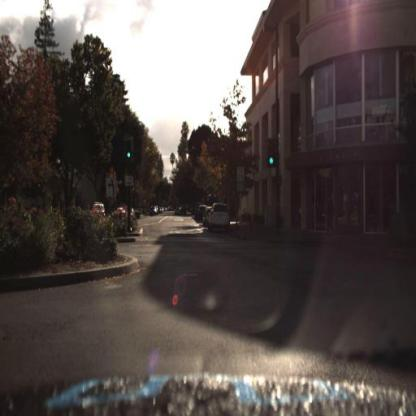car: (83, 195, 111, 222), (209, 202, 230, 232)
pedestrian: (324, 188, 336, 241), (327, 191, 337, 240)
trafficLight: (123, 146, 135, 172), (268, 143, 278, 169)
trafficLight-Green: (126, 140, 133, 165)
